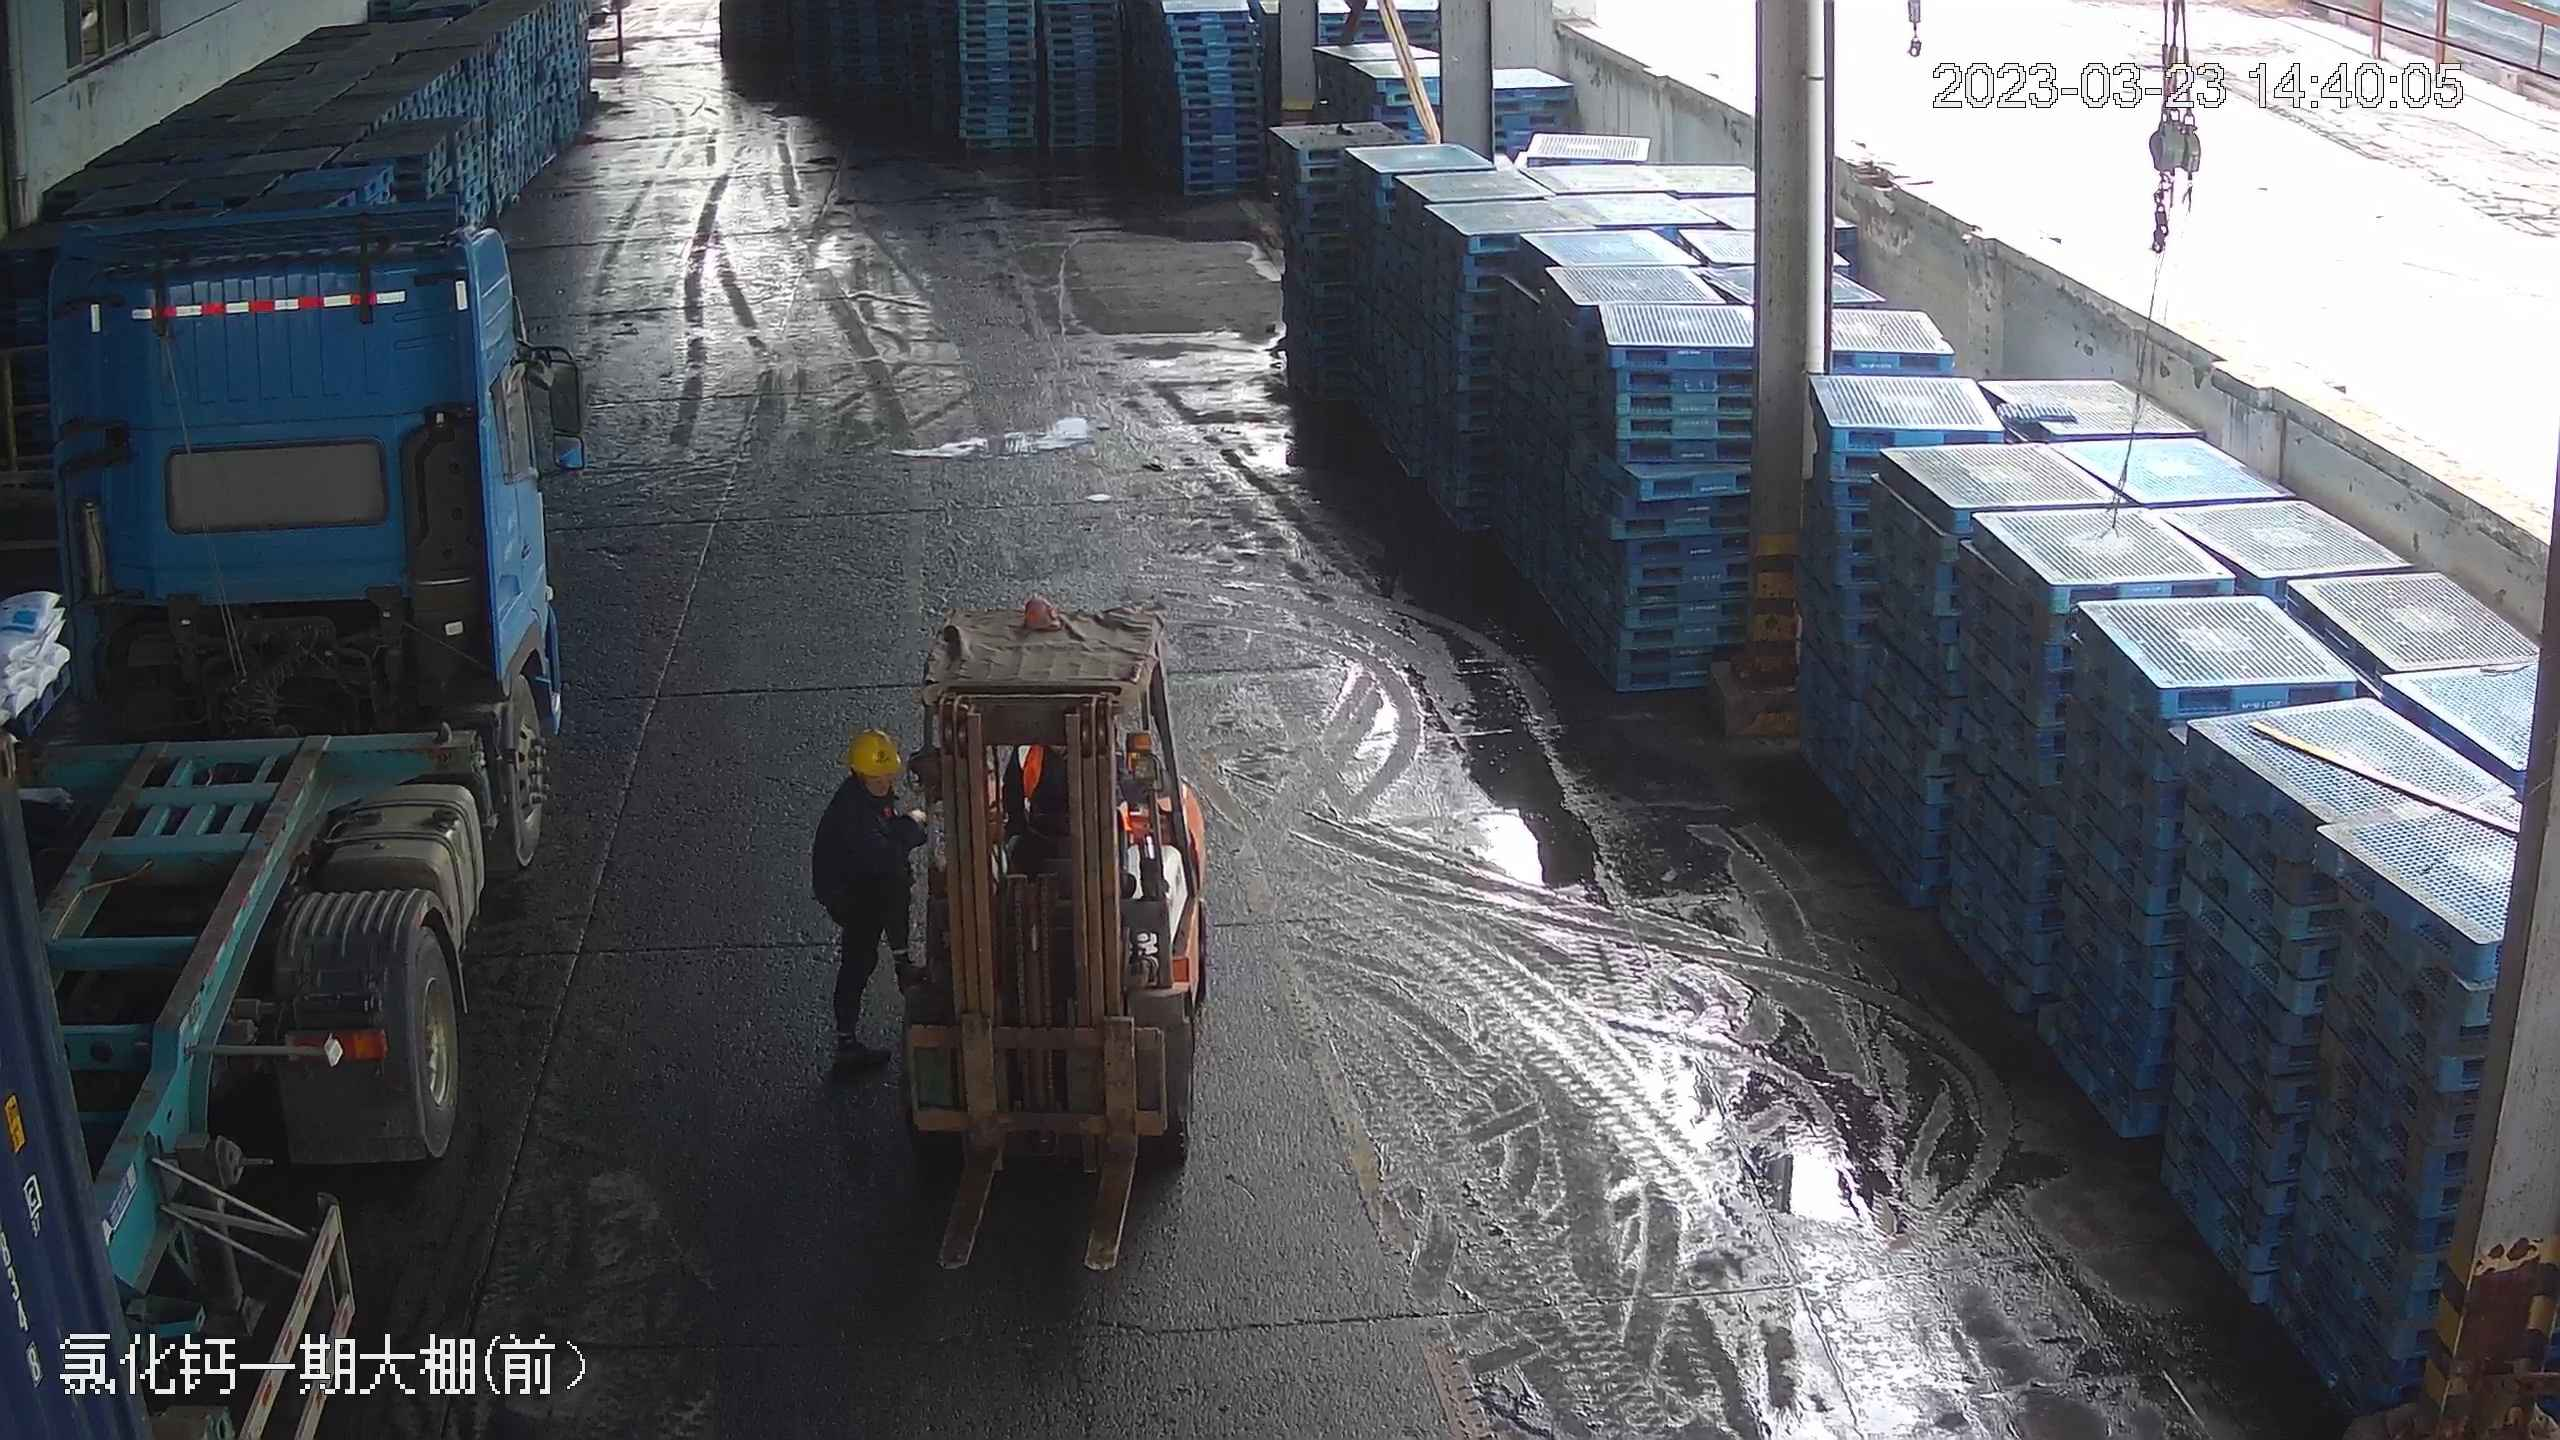head: (817, 727, 926, 839)
helmet: (844, 727, 903, 775)
people: (810, 729, 935, 1062)
truck: (0, 189, 594, 1440)
